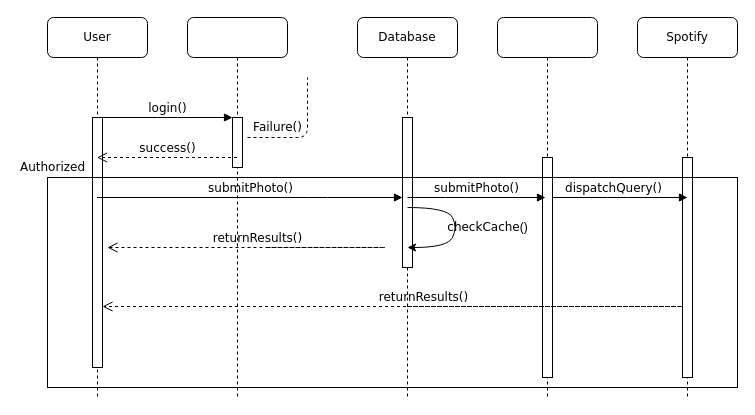
This 755x415 diagram has some shape labels left out. The shapes that lost their labels are listed below. From the top down, each one's box as (x1, y1, x2, y2) in pixels, then its label:
(186, 16, 288, 398): Google OAuth
(496, 16, 598, 398): Google Vision
